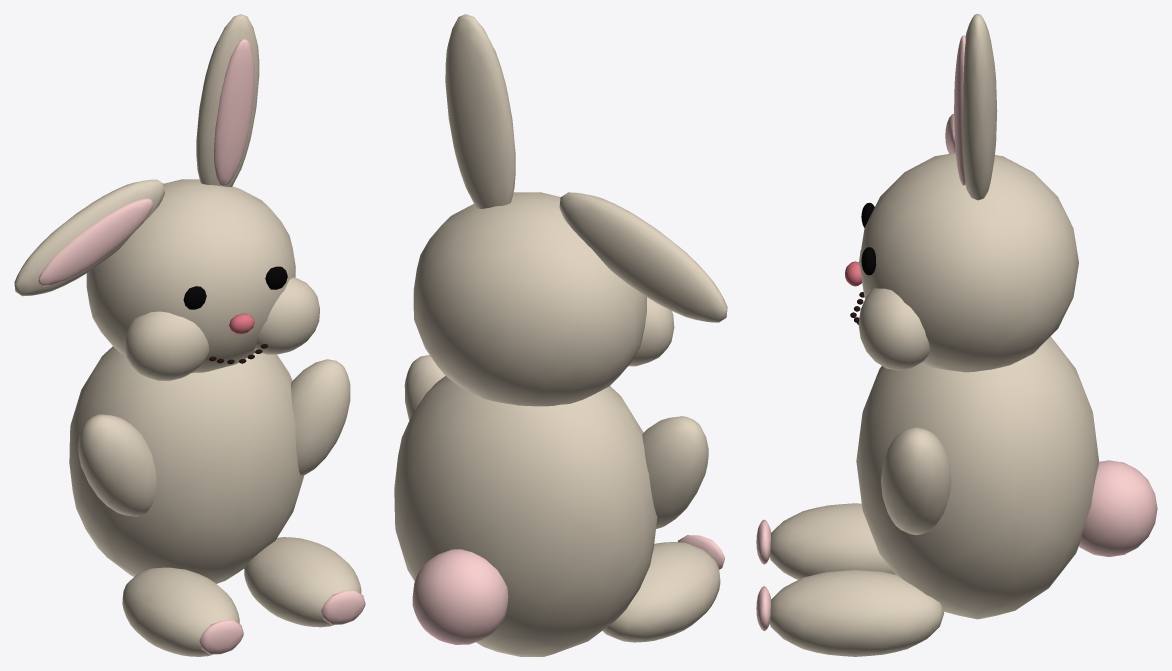
Rendered from prize-bunny.glb.
3 views of the same model, side by side, from view 1: azimuth 30°, elevation 25°; view 2: azimuth 150°, elevation 25°; view 3: azimuth 270°, elevation 25° (orthographic). The views are drawn at different scales.
Visible parts, largest first — view 1: Icokugel, Icokugel.001, Icokugel.004, Icokugel.009, Icokugel.003, Icokugel.008, Icokugel.002, Icokugel.014, Icokugel.012, Icokugel.013, Icokugel.015, Icokugel.007 (+2 smaller); view 2: Icokugel, Icokugel.001, Icokugel.012, Icokugel.014, Icokugel.017, Icokugel.004, Icokugel.003, Icokugel.002, Icokugel.008, Icokugel.005; view 3: Icokugel, Icokugel.001, Icokugel.009, Icokugel.004, Icokugel.008, Icokugel.017, Icokugel.012, Icokugel.007, Icokugel.013.
Boxes of the visible parts, box(x1,y1,x2,y2) form: Icokugel: box(69, 346, 303, 583); Icokugel.001: box(86, 179, 295, 372); Icokugel.004: box(122, 567, 239, 656); Icokugel.009: box(244, 537, 361, 627); Icokugel.003: box(78, 414, 156, 516); Icokugel.008: box(291, 359, 350, 475); Icokugel.002: box(124, 311, 209, 380); Icokugel.014: box(14, 179, 164, 296); Icokugel.012: box(196, 14, 259, 186); Icokugel.013: box(214, 39, 254, 186); Icokugel.015: box(38, 198, 153, 286); Icokugel.007: box(254, 277, 319, 354); Icokugel: box(394, 376, 657, 656); Icokugel.001: box(413, 192, 646, 406); Icokugel.012: box(445, 14, 515, 208); Icokugel.014: box(559, 192, 727, 322); Icokugel.017: box(412, 549, 508, 644); Icokugel.004: box(602, 542, 720, 642); Icokugel.003: box(642, 416, 708, 528); Icokugel.002: box(628, 297, 674, 366); Icokugel.008: box(404, 355, 445, 420); Icokugel.005: box(678, 535, 724, 569); Icokugel: box(856, 336, 1098, 619); Icokugel.001: box(859, 153, 1078, 372); Icokugel.009: box(769, 570, 944, 656); Icokugel.004: box(769, 503, 895, 579); Icokugel.008: box(881, 427, 951, 534); Icokugel.017: box(1079, 460, 1157, 556); Icokugel.012: box(962, 14, 997, 200); Icokugel.007: box(858, 288, 929, 370); Icokugel.013: box(954, 35, 965, 185).
Size of the model in its own units: 0.2289 by 0.3976 by 0.2292.
